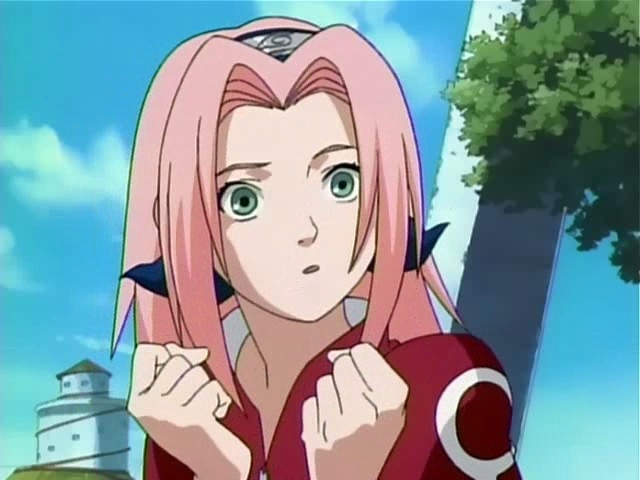sakura: (149, 14, 406, 324)
